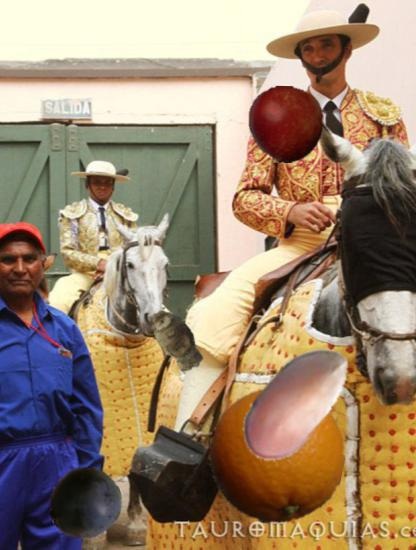Ginger: (142, 305, 212, 375)
Hazelnut: (226, 333, 366, 473)
Nectarine: (247, 86, 325, 164)
Orange: (208, 388, 345, 525)
Plum: (48, 466, 123, 541)
